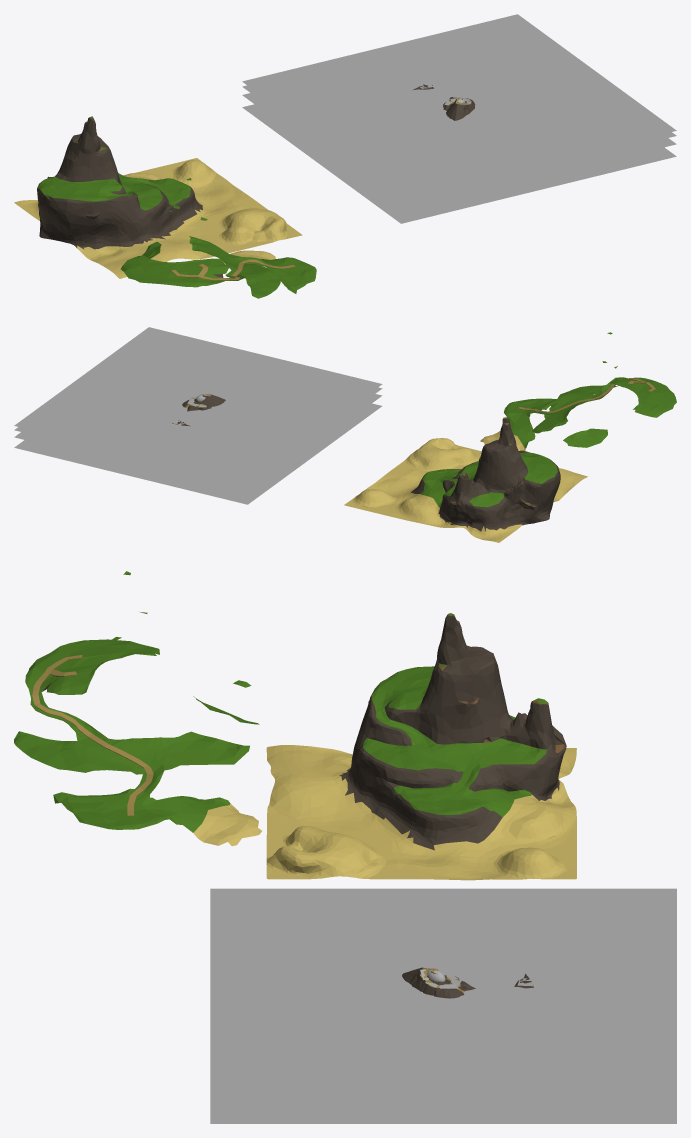
Rendered from RoundIsland.fbx.
3 views of the same model, one above another, from view 1: azimuth 30°, elevation 25°; view 2: azimuth 150°, elevation 25°; view 3: azimuth 270°, elevation 25° (orthographic). The views are drawn at different scales.
Visible parts, largest first — view 1: pPlane4, Plane, invisible land, pPlane1, pPlane2, pPlane3, Island, Cube; view 2: pPlane4, Plane, invisible land, pPlane1, pPlane2, pPlane3, Island, Cube; view 3: pPlane4, Plane, invisible land, pPlane1, pPlane2, pPlane3, Cube, Island.
Part boxes in pixels (x1,y1,x2,y2): pPlane4: (242,14,676,197); Plane: (14,116,302,278); invisible land: (120,178,316,298); pPlane1: (242,104,676,223); pPlane2: (242,93,676,211); pPlane3: (242,85,676,202); Island: (412,84,475,120); Cube: (171,259,295,280); pPlane4: (14,327,382,482); Plane: (344,417,587,542); invisible land: (480,332,676,450); pPlane1: (14,403,382,504); pPlane2: (14,394,382,494); pPlane3: (14,387,382,487); Island: (172,394,225,426); Cube: (518,378,655,412); pPlane4: (210,888,676,1085); Plane: (266,613,576,880); invisible land: (14,571,261,846); pPlane1: (210,1106,676,1123); pPlane2: (210,1093,676,1105); pPlane3: (210,1086,676,1093); Cube: (32,655,153,815); Island: (402,967,534,998).
Size of the model in its own units: 251 by 55.88 by 169.
